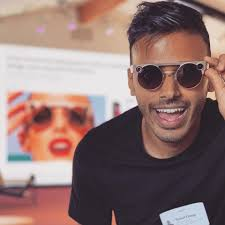Glasses: (127, 57, 208, 92)
